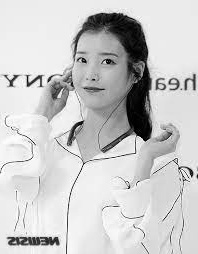earphone: (131, 61, 145, 84)
